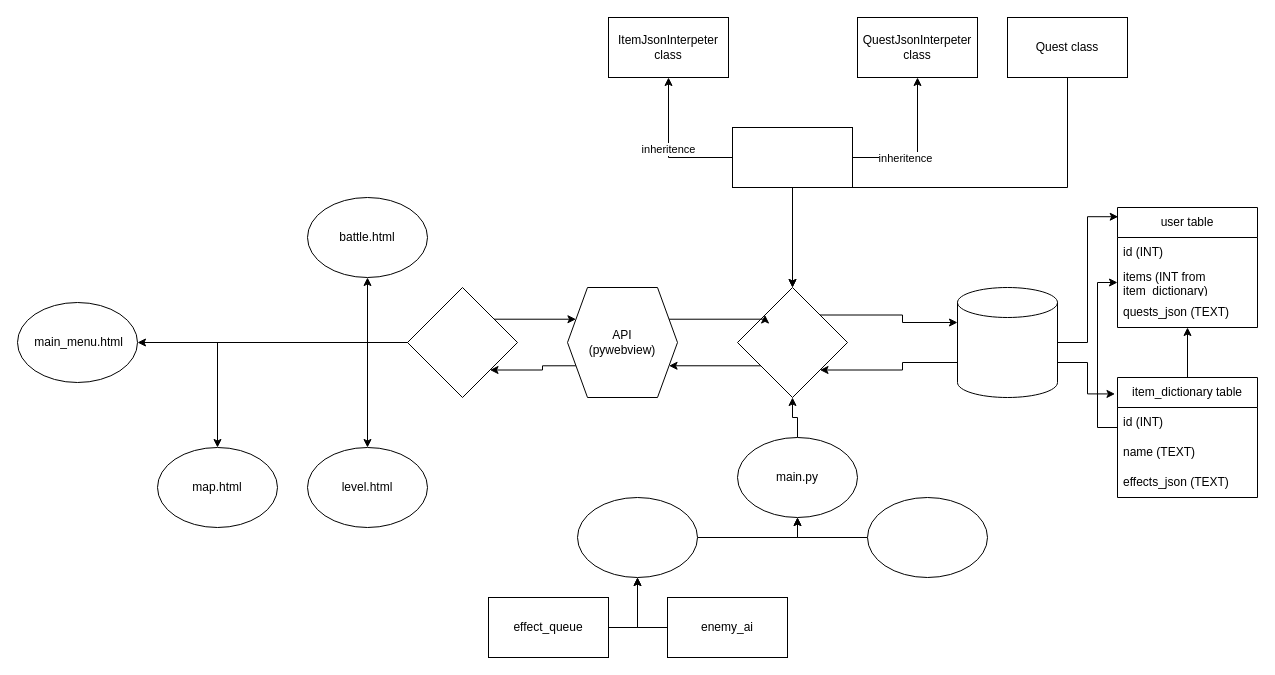
Image size: 1275x675. Some labels were removed from this diagram. Each missing label, with the centre of its shape:
back-end (Python): the point at 792,342
battle.py: the point at 637,537
databse (sqllite3): the point at 1007,342
dialogue.py: the point at 927,537
front-end: the point at 462,342
JsonInterpeter class: the point at 792,157
